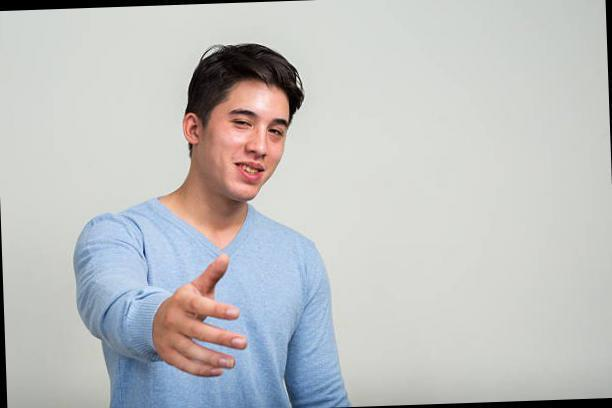Drunk: (221, 87, 284, 201)
